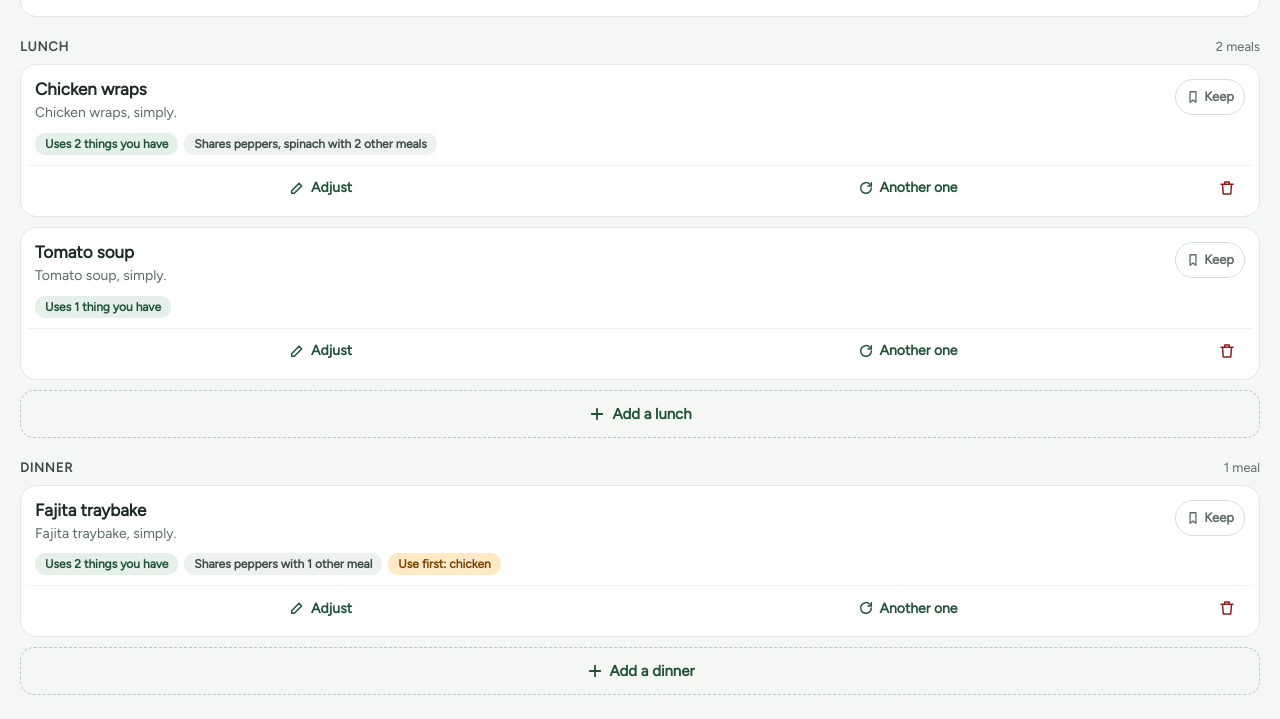
Test case: Plan meals: the plan › Another one replaces the meal
The image size is (1280, 719).
(page scrolled)
Click the button "Another one" below "Shares peppers with 1 other meal".
click(908, 608)  # box x1=614 y1=586 x2=1201 y2=630
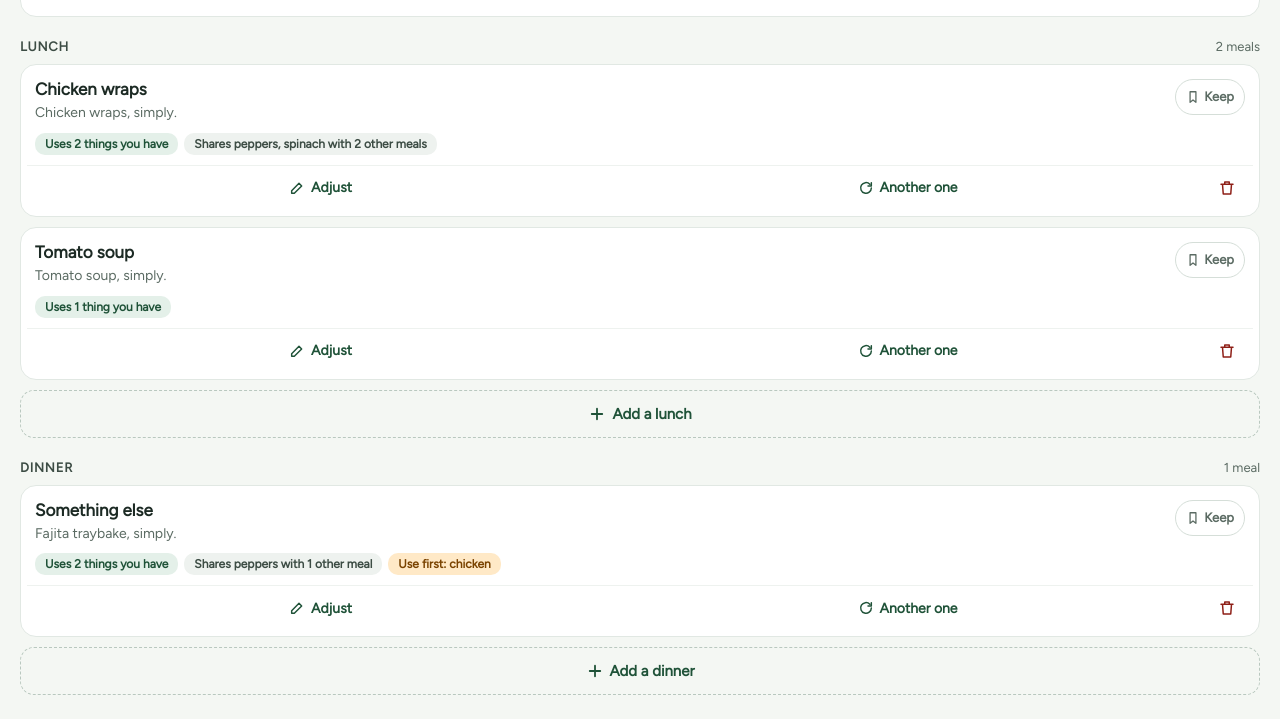
Expected: the element "Something else" is shown, x1=20 y1=485 x2=1260 y2=637
